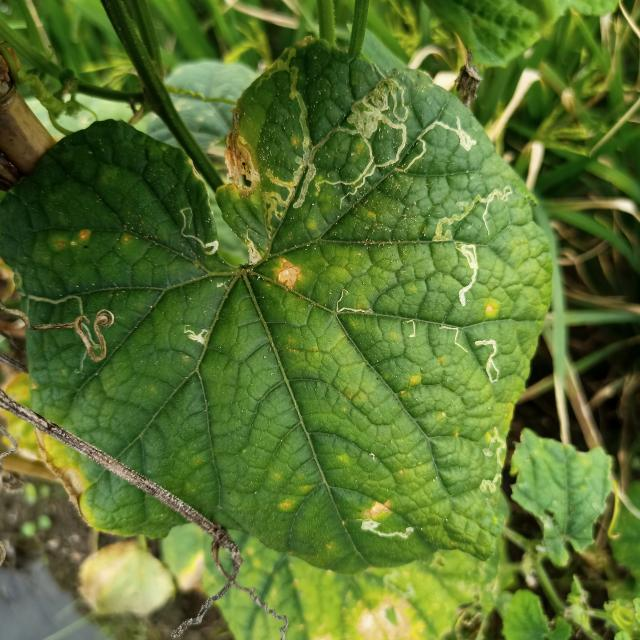disease_cucumber: (275, 259, 304, 293), (366, 497, 394, 521), (482, 303, 497, 319)
